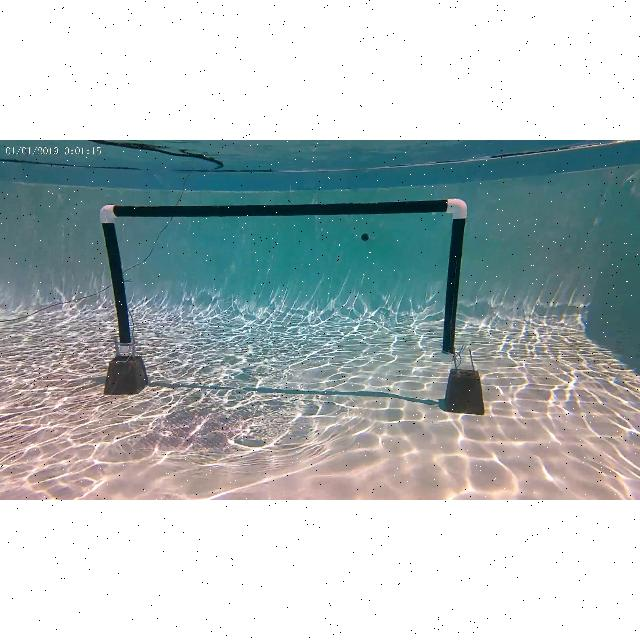prequal gate: (100, 198, 468, 362)
prequal gate leg l: (96, 201, 136, 351)
prequal gate leg r: (440, 195, 470, 358)
